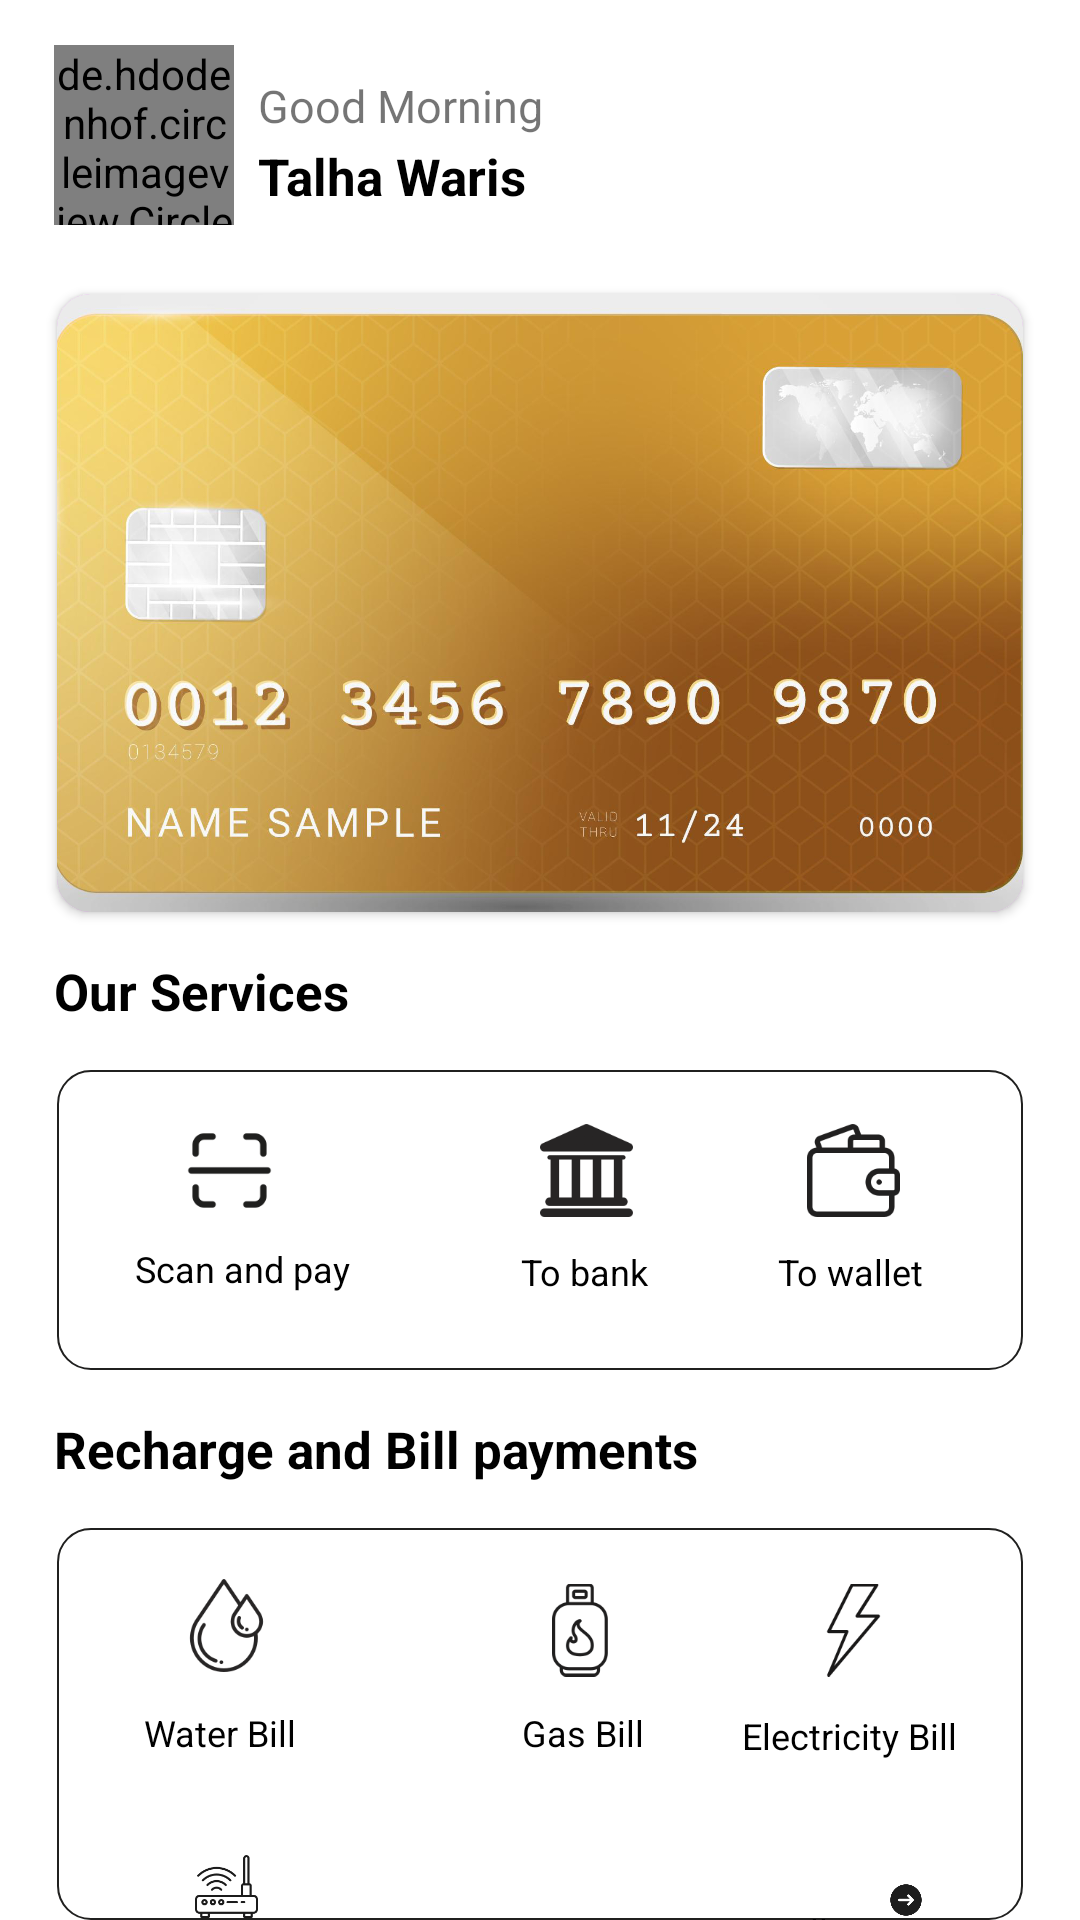

Screen size 1080 x 1920. Icon name, then its box in pixels as (x1, y1, x2, y2):
arrowright: (890, 1884, 922, 1916)
drop: (190, 1579, 263, 1672)
flash: (827, 1584, 880, 1677)
gasbottle: (552, 1584, 608, 1677)
router: (180, 1855, 273, 1920)
